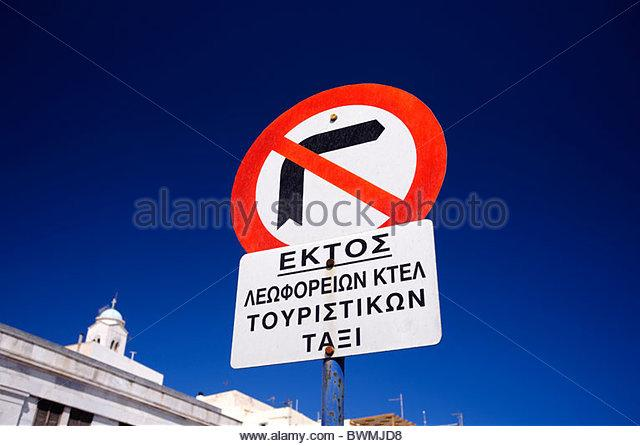no_right_turn: (228, 81, 448, 254)
